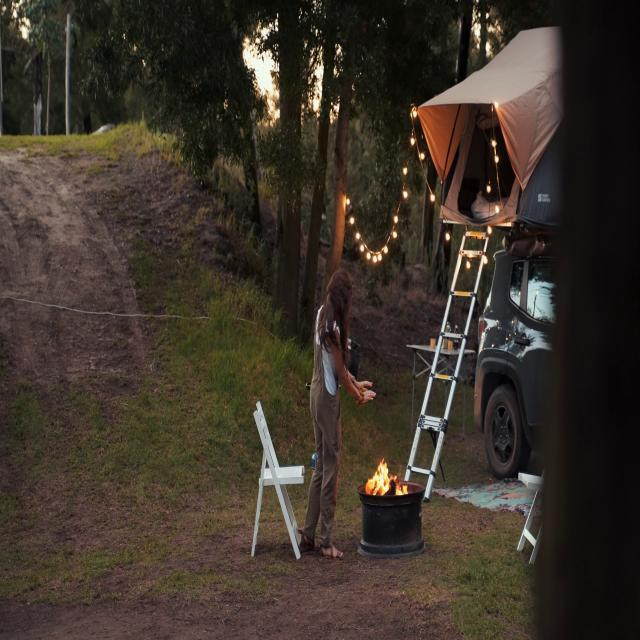Fire: (367, 450, 401, 500)
